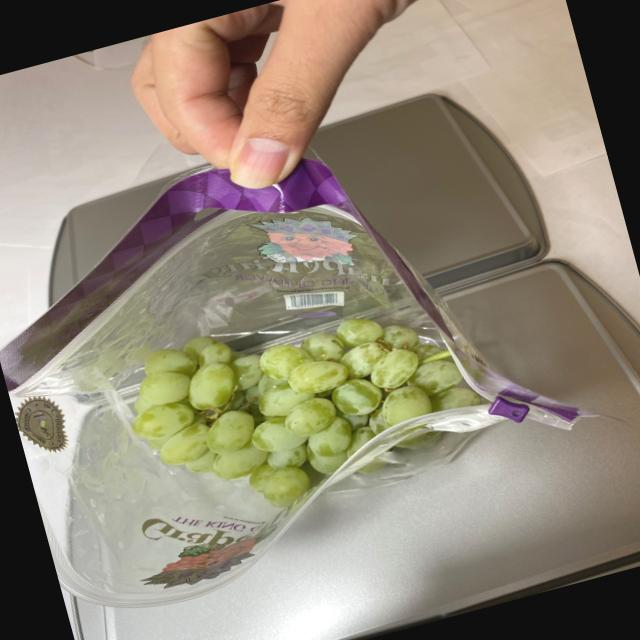grapes: (113, 269, 510, 538)
